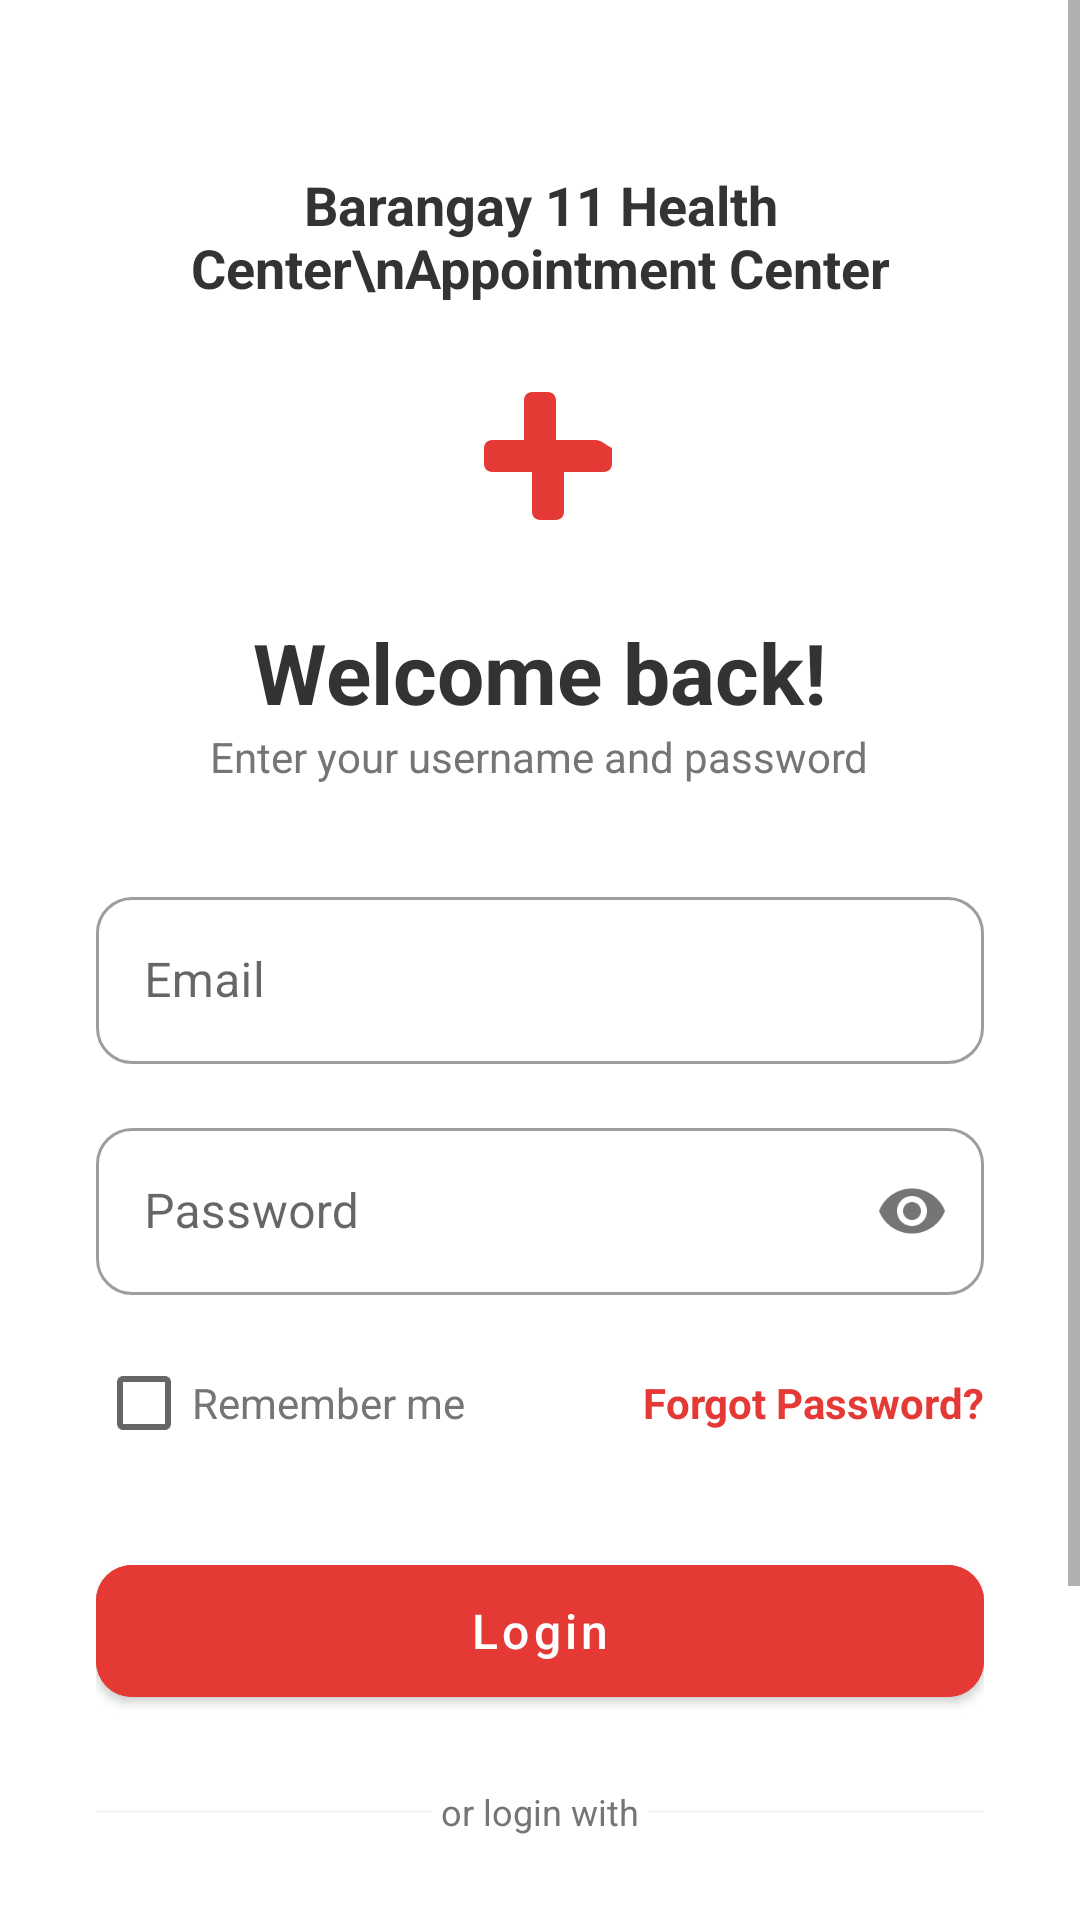

Point at icon controls on the screen. Image size 1080w x 1920h, points as [x,y].
medical cross: [548,456]
